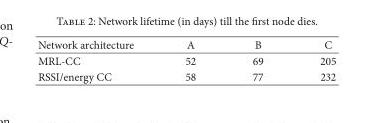table: (37, 36, 335, 83)
table column: (37, 36, 158, 83), (223, 36, 291, 83), (158, 36, 223, 83), (291, 36, 335, 83)
table column header: (37, 36, 335, 52)
table row: (37, 36, 335, 52), (37, 52, 335, 68), (37, 68, 335, 83)
